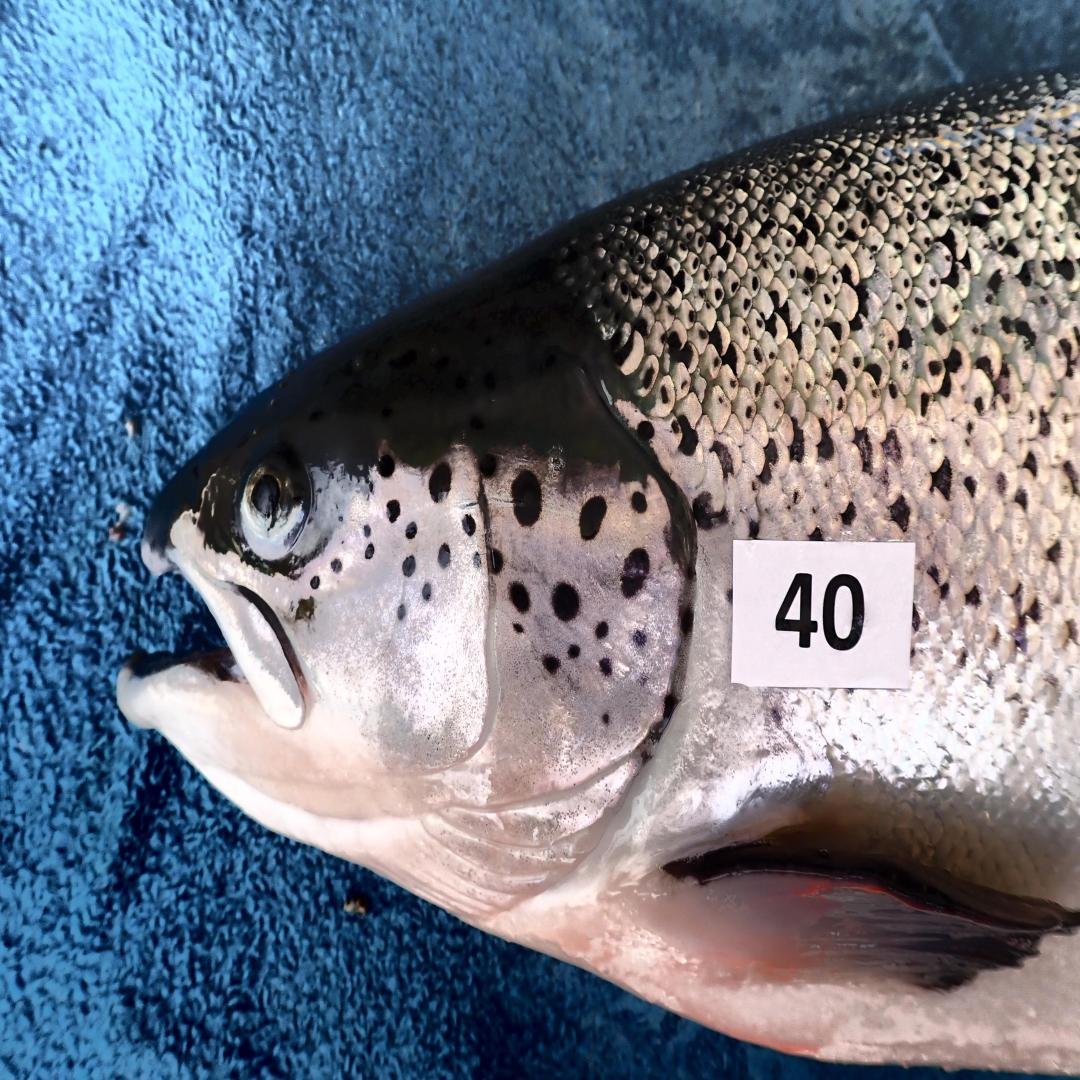spot: (510, 470, 542, 526), (620, 548, 650, 596), (580, 495, 608, 540), (553, 582, 580, 622), (428, 461, 451, 503), (508, 582, 529, 613), (378, 453, 397, 478), (479, 453, 498, 478), (631, 492, 648, 515), (680, 606, 693, 636), (542, 655, 561, 675), (663, 694, 678, 719), (491, 548, 504, 574), (386, 501, 401, 523), (462, 515, 477, 537), (439, 543, 451, 568), (403, 554, 416, 577), (599, 658, 612, 678), (633, 630, 648, 647), (595, 622, 610, 638), (329, 557, 342, 574), (405, 523, 418, 540), (422, 582, 432, 602), (567, 644, 580, 658), (365, 543, 375, 560), (363, 523, 373, 540), (397, 605, 407, 622), (513, 622, 525, 636), (601, 712, 612, 726), (310, 577, 321, 591), (473, 552, 481, 568)
